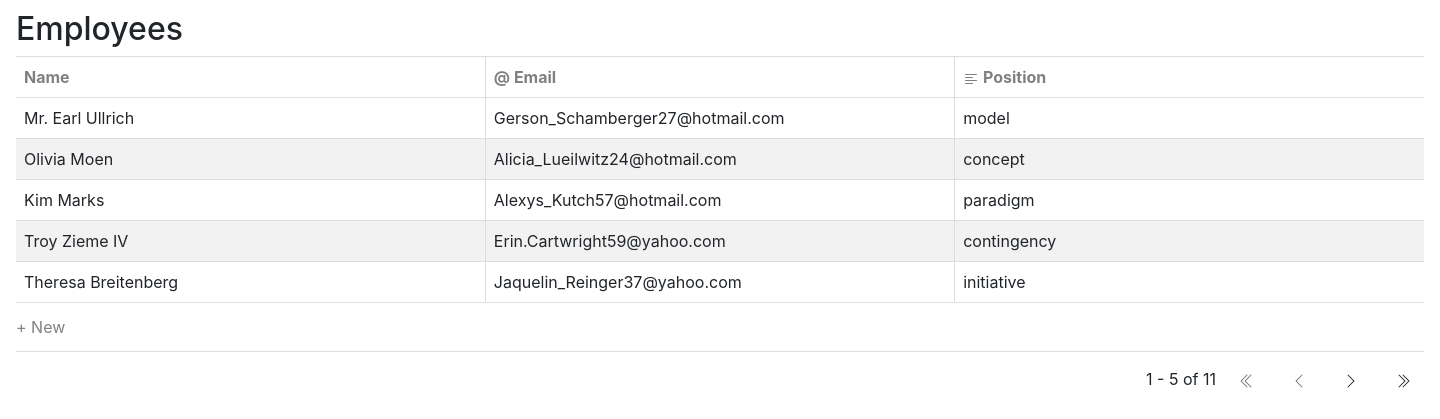
Test: Integration test Table › When click First button
Check: the text "Mr. Earl Ullrich" is shown, box x1=16 y1=98 x2=485 y2=139
Click the button with class "next" at coordinates (1351, 379), box x1=1330 y1=360 x2=1372 y2=398
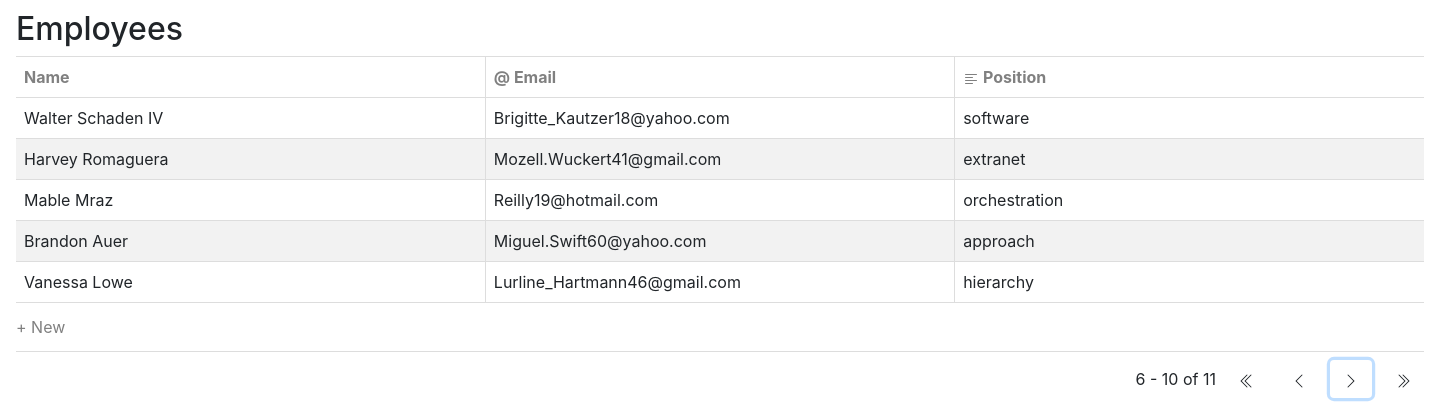
Check: the text "Walter Schaden IV" is shown, box x1=16 y1=98 x2=485 y2=139
Click the button with class "first" at coordinates (1247, 379), box x1=1226 y1=360 x2=1268 y2=398
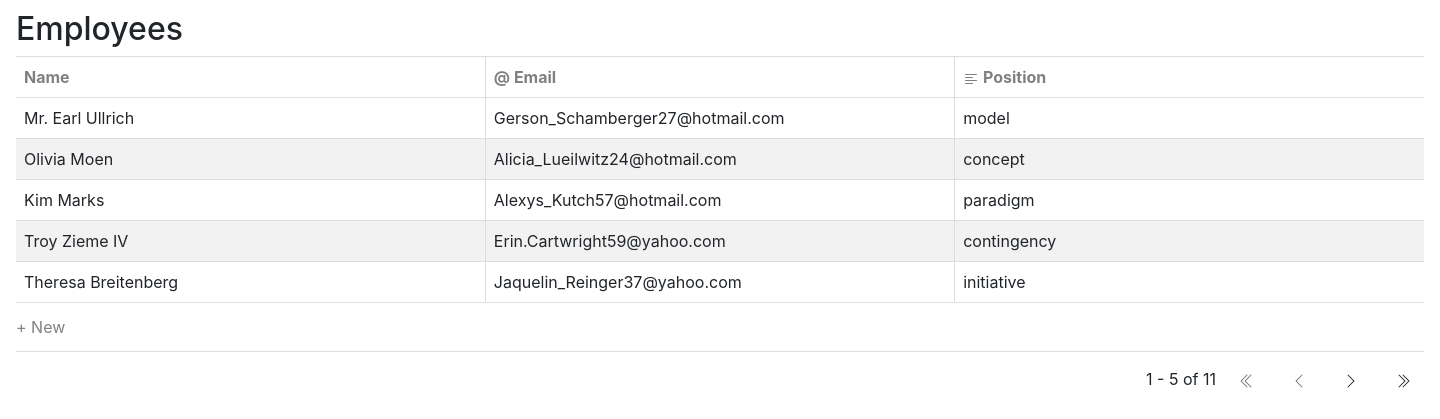
Check: the text "Mr. Earl Ullrich" is shown, box x1=16 y1=98 x2=485 y2=139
